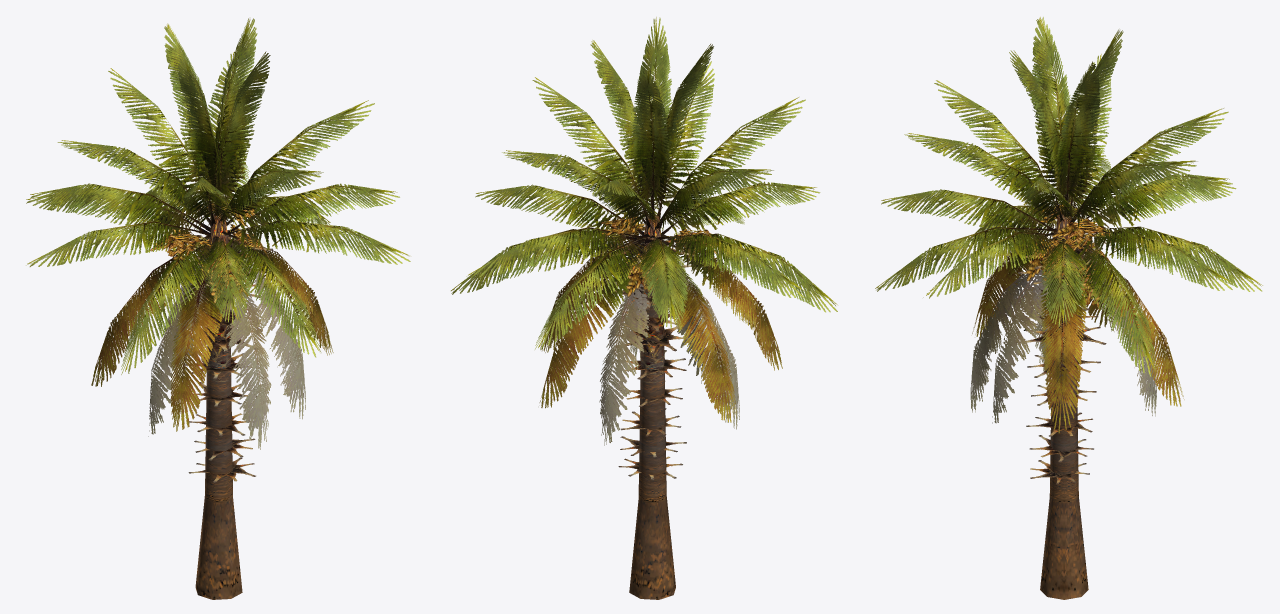
The model's file is flora_tree_date_palm.glb.
3 views of the same model, side by side, from view 1: azimuth 30°, elevation 25°; view 2: azimuth 150°, elevation 25°; view 3: azimuth 270°, elevation 25° (orthographic).
Visible parts, largest first — view 1: flora_tree_date_palm_part0; view 2: flora_tree_date_palm_part0; view 3: flora_tree_date_palm_part0.
Part boxes in pixels (x1,y1,x2,y2): flora_tree_date_palm_part0: (26,18,410,599); flora_tree_date_palm_part0: (451,17,837,599); flora_tree_date_palm_part0: (875,17,1262,599).
Bounding box in the file's own units: 12.16 × 17.89 × 11.65.
Materials: 1 (1 with a texture image).
